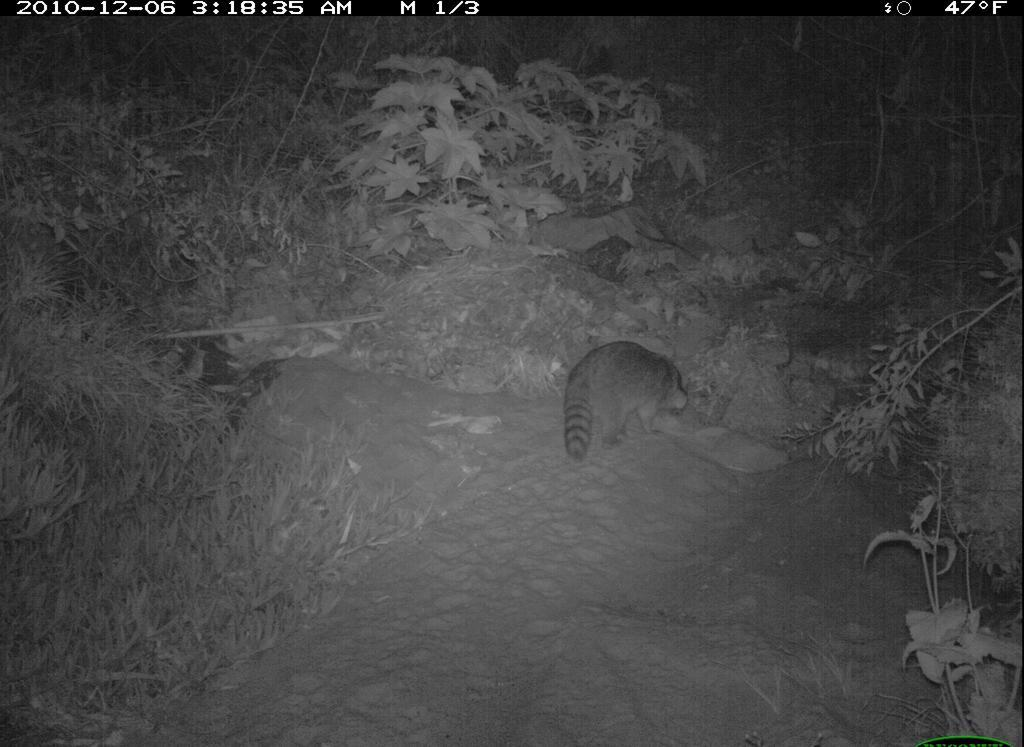raccoon: (547, 326, 701, 466)
